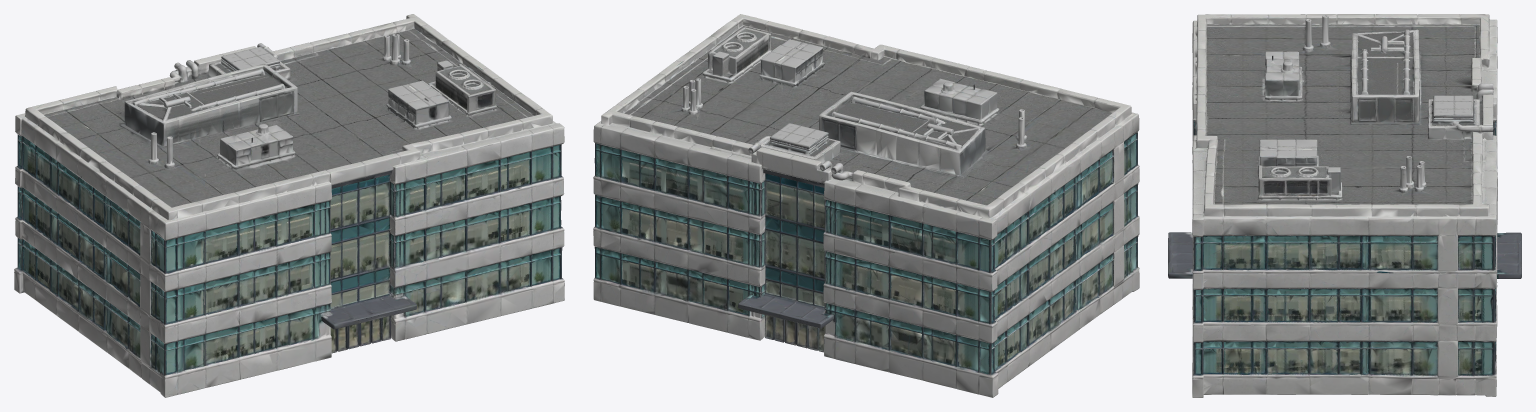
Rendered from rd-building.glb.
3 views of the same model, side by side, from view 1: azimuth 30°, elevation 25°; view 2: azimuth 150°, elevation 25°; view 3: azimuth 270°, elevation 25° (orthographic). The views are drawn at different scales.
Bounding box in the file's own units: 1.9 × 0.9256 × 1.42.
1 material, 1 textured.
